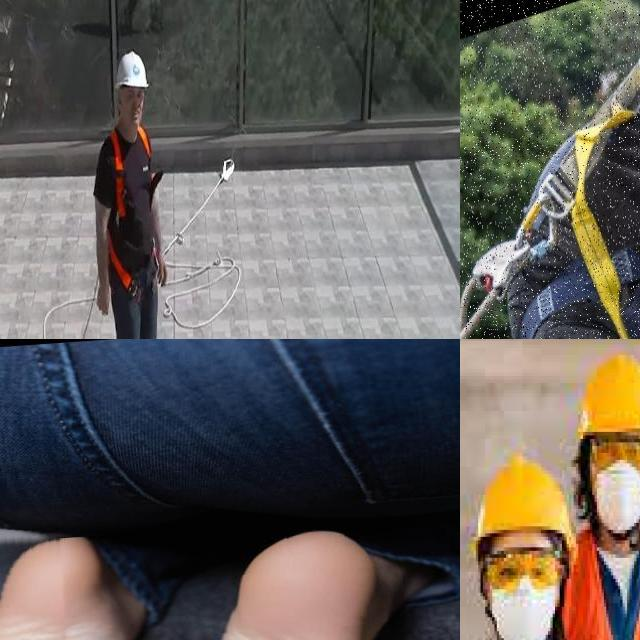Barefoots: (177, 503, 364, 640), (0, 509, 150, 640)
Harness: (164, 159, 236, 254), (109, 130, 127, 226), (110, 235, 133, 292), (140, 127, 152, 158)
